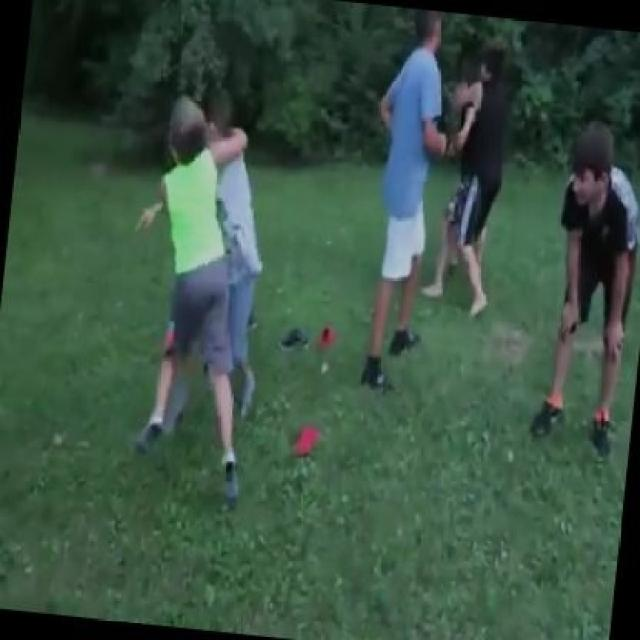fight: (362, 5, 506, 398), (126, 90, 256, 501)
non-fight: (534, 136, 637, 459)
